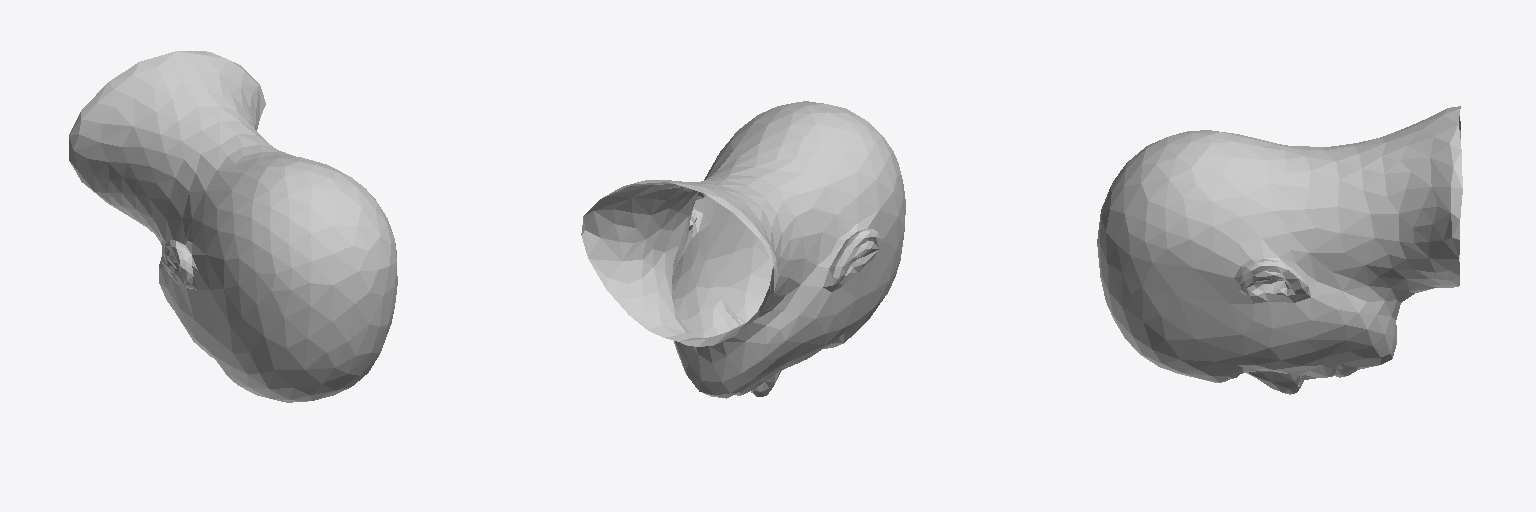
Rendered from tiny_mann.obj.
3 views of the same model, side by side, from view 1: azimuth 30°, elevation 25°; view 2: azimuth 150°, elevation 25°; view 3: azimuth 270°, elevation 25° (orthographic).
Size of the model in its own units: 4.26 by 5.76 by 6.97.